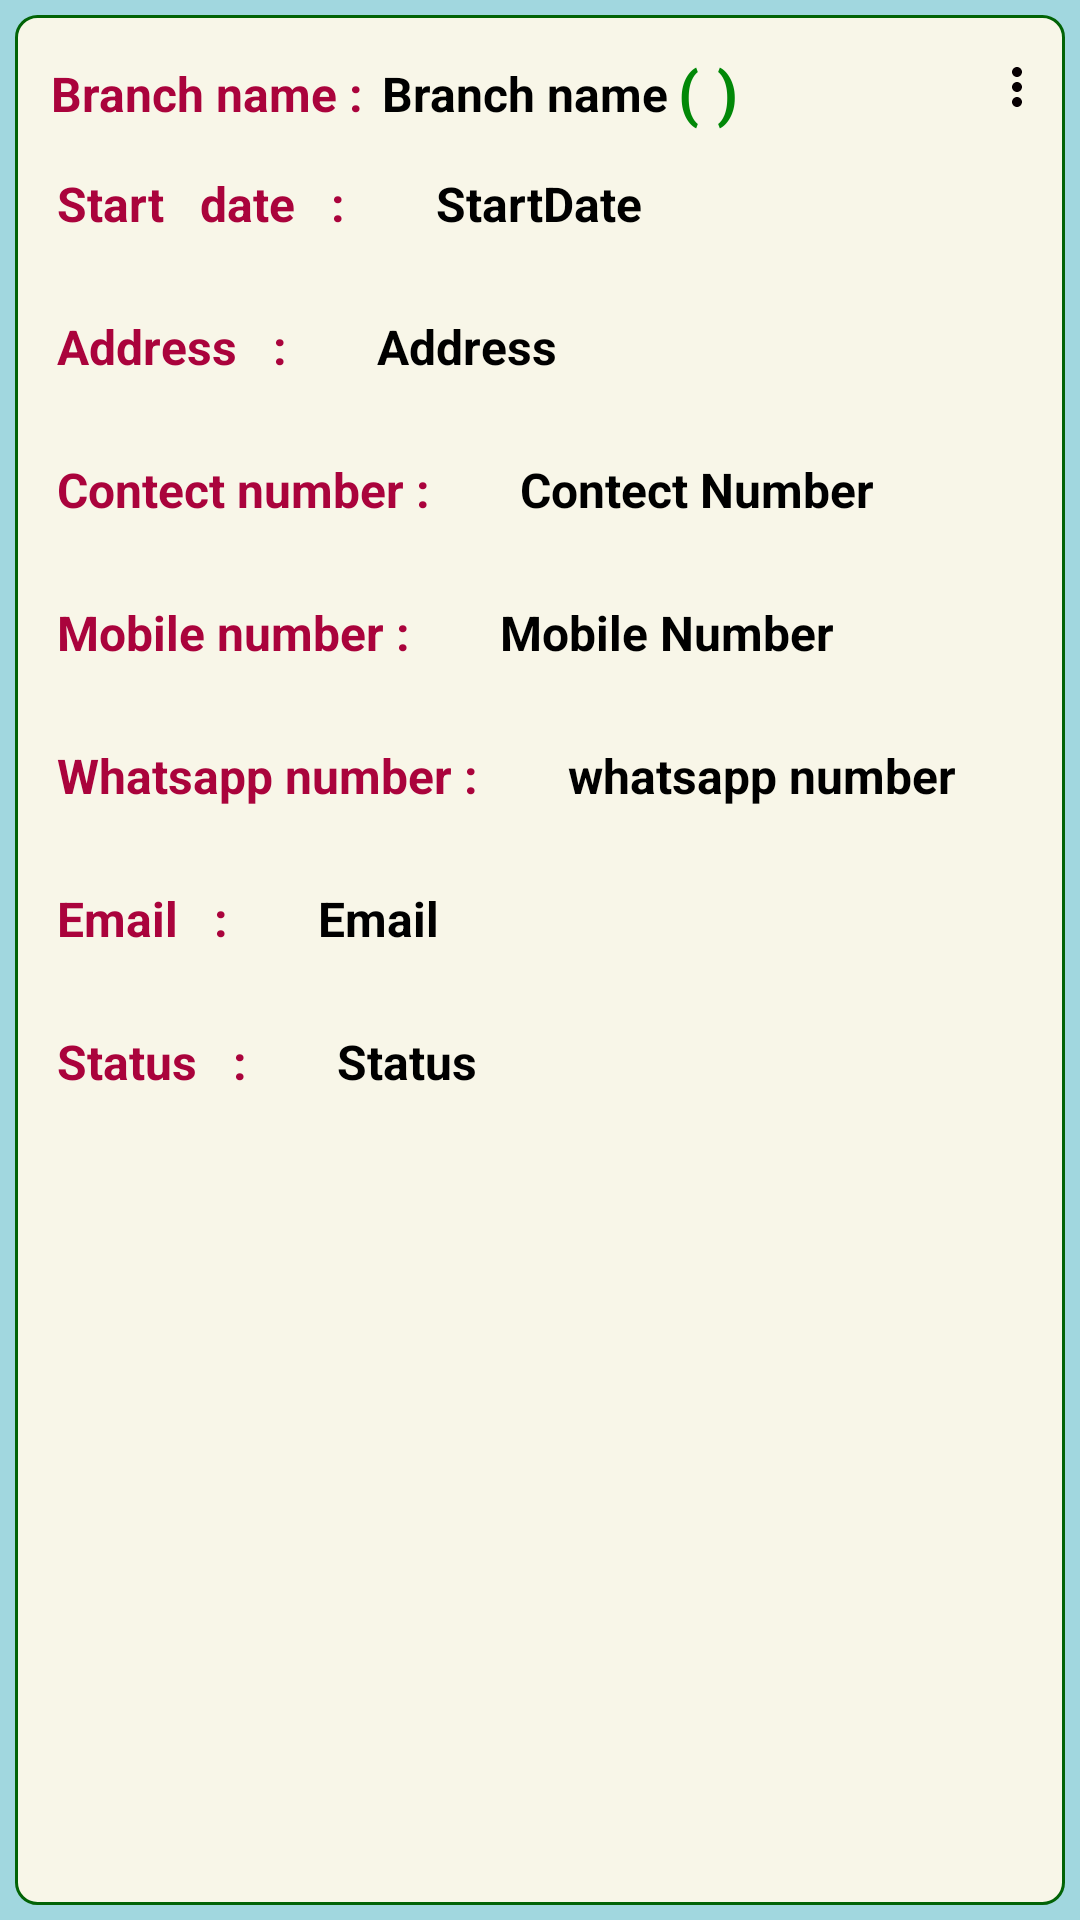

Locate icon controls on the screen. Image size 1080px×1920px, boxes as Rect(x1, y1, x2, y2).
menu: Rect(1012, 67, 1022, 107)
